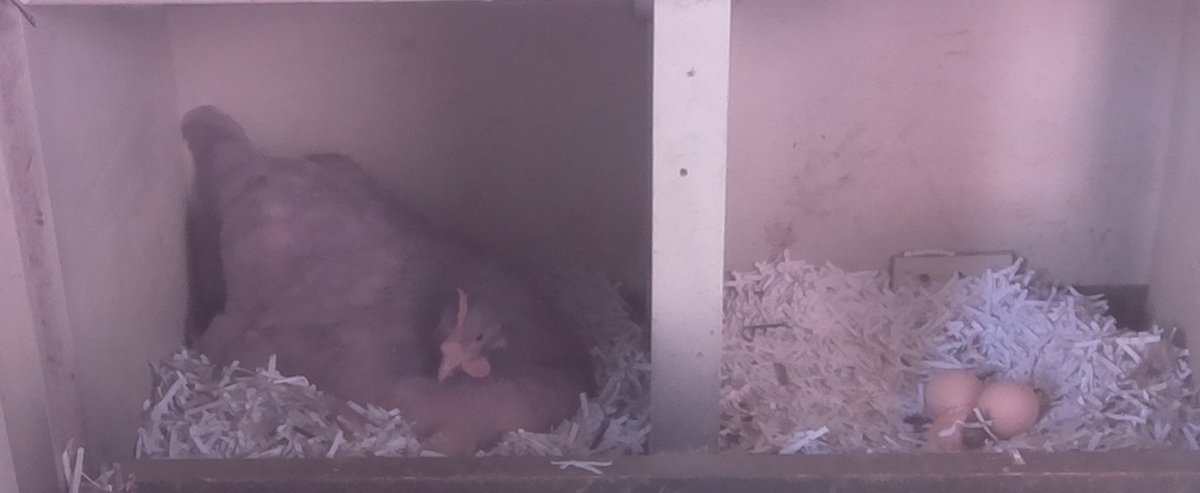egg: (974, 377, 1046, 438), (922, 365, 986, 420), (918, 414, 980, 449)
hen: (178, 132, 599, 449)
